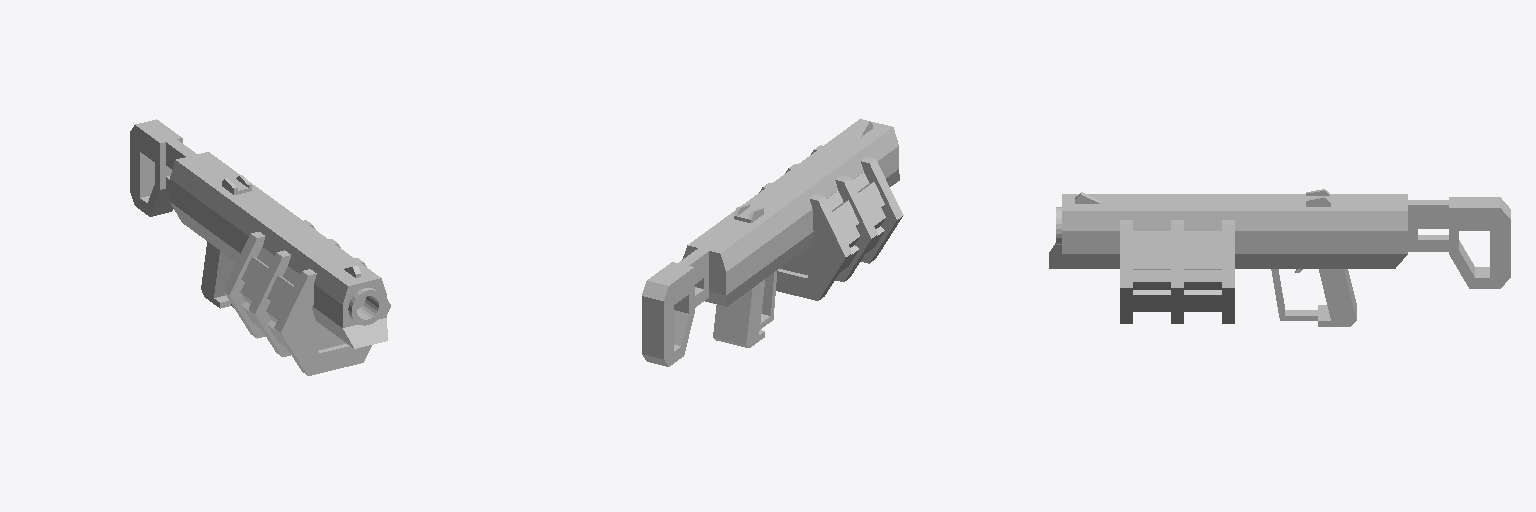
The picture shows the model from 3 angles: view 1: azimuth 30°, elevation 25°; view 2: azimuth 150°, elevation 25°; view 3: azimuth 270°, elevation 25°; orthographic projection.
Visible parts, largest first — view 1: mergedBlocks; view 2: mergedBlocks; view 3: mergedBlocks.
Boxes of the visible parts, x1,y1,x2,y2 form: mergedBlocks: [130, 119, 390, 375]; mergedBlocks: [642, 119, 903, 366]; mergedBlocks: [1049, 189, 1510, 326].
Bounding box in the file's own units: 1 × 1.08 × 3.6.